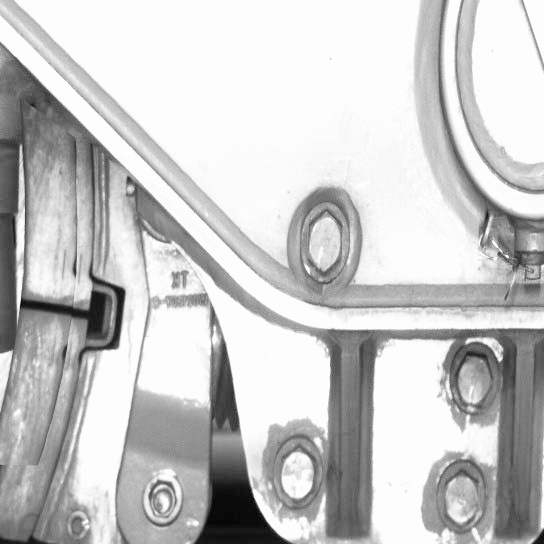ClosedKnifeSwitch: (2, 136, 94, 541)
